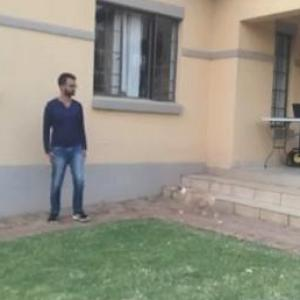follow: (39, 68, 92, 226)
